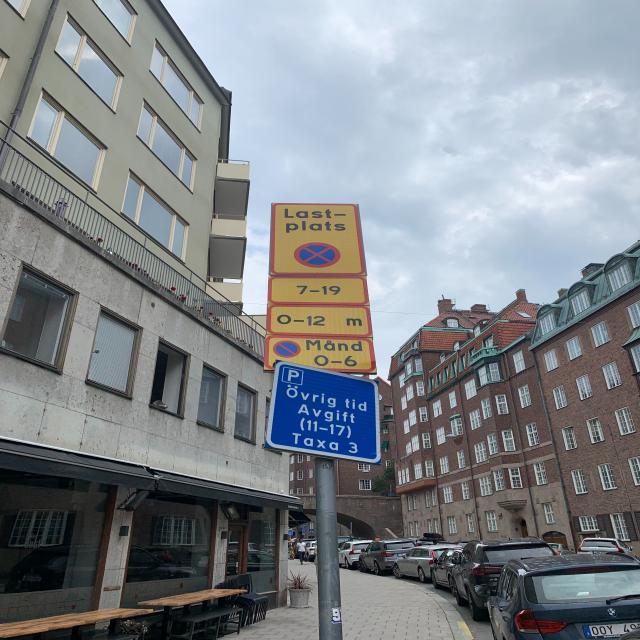lastplats: (270, 203, 366, 275)
